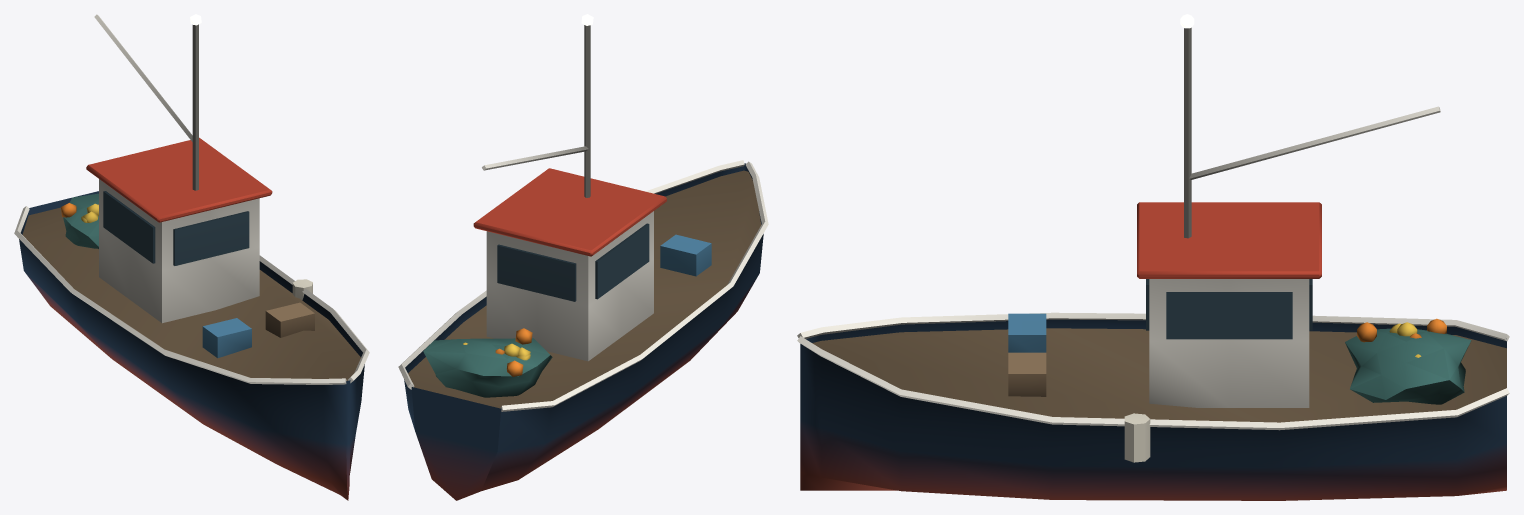
File: fishing_boat.glb
3 views of the same model, side by side, from view 1: azimuth 30°, elevation 25°; view 2: azimuth 150°, elevation 25°; view 3: azimuth 270°, elevation 25° (orthographic). The views are drawn at different scales.
Parts seen in each view (by area): view 1: fishing_boat_mesh; view 2: fishing_boat_mesh; view 3: fishing_boat_mesh.
Part boxes in pixels (x1,y1,x2,y2): fishing_boat_mesh: (14, 14, 369, 500); fishing_boat_mesh: (398, 14, 768, 500); fishing_boat_mesh: (797, 14, 1509, 500).
Size of the model in its own units: 3.24 by 6.25 by 8.47.
